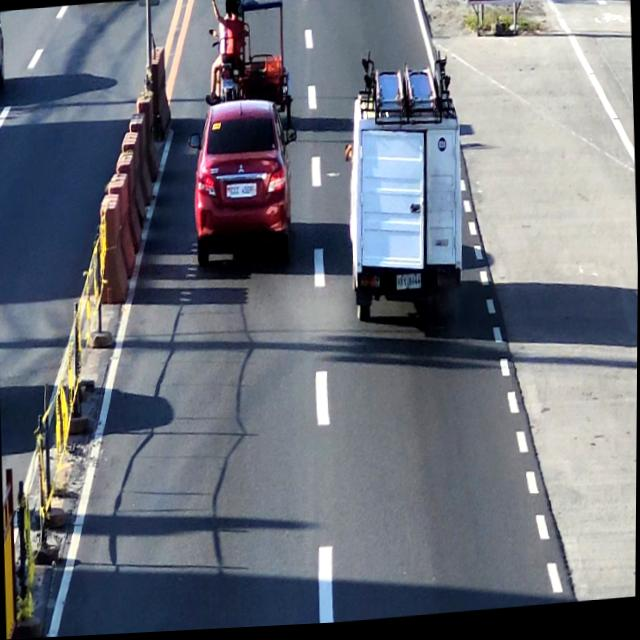Car: (340, 59, 468, 332), (188, 99, 297, 272)
License-Plate: (225, 183, 258, 202), (396, 277, 423, 297), (220, 80, 233, 92)
Tricycle: (203, 0, 293, 107)
